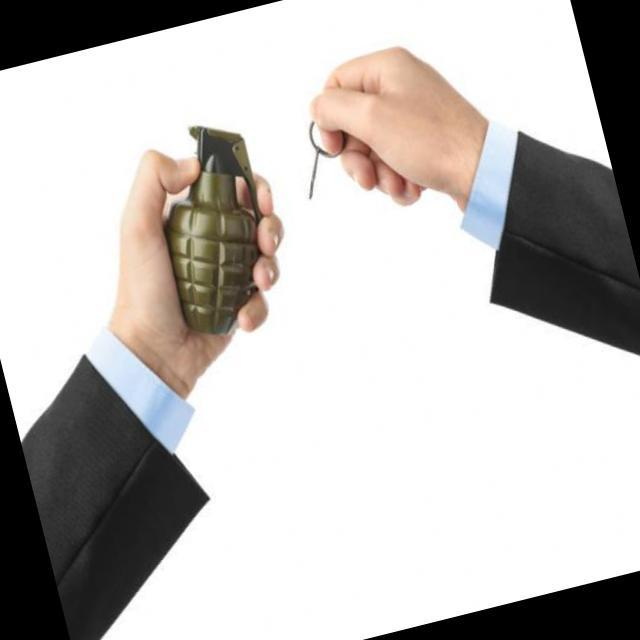grenade: (131, 107, 310, 341)
